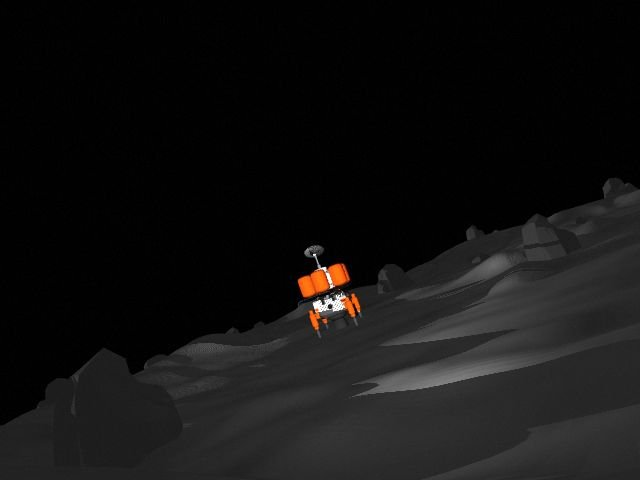homebase: (293, 243, 367, 343)
